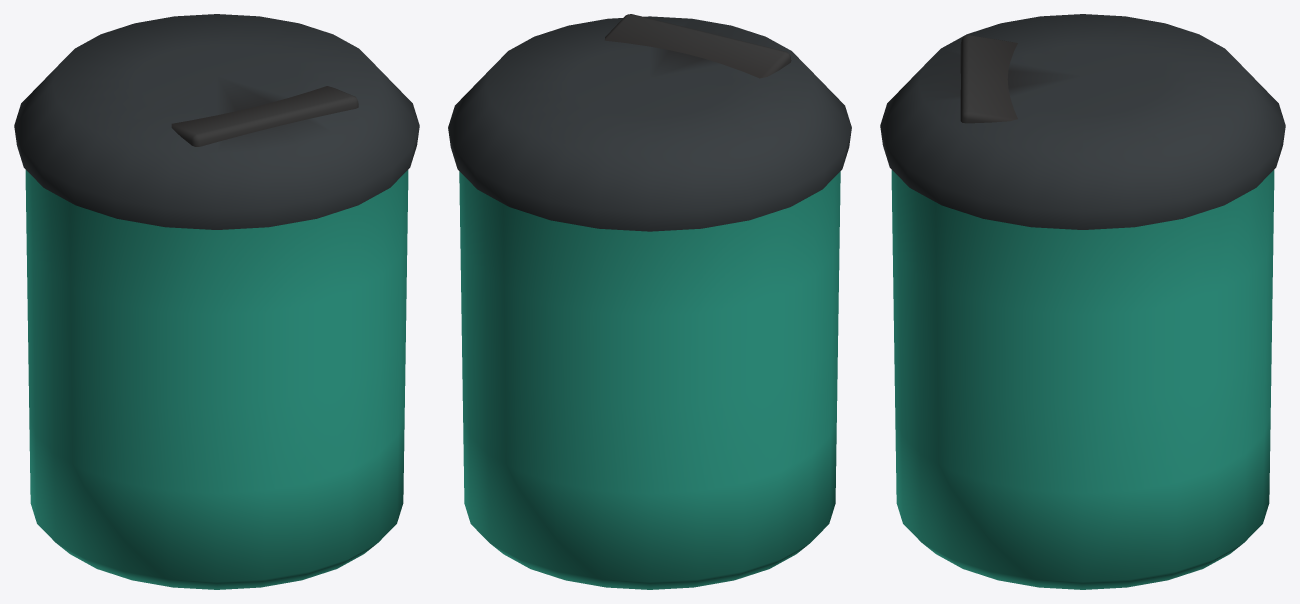
Rendered from fp-bin.gltf.
3 renders of one model, left to right at view 1: azimuth 30°, elevation 25°; view 2: azimuth 150°, elevation 25°; view 3: azimuth 270°, elevation 25°, orthographic.
Visible parts, largest first — view 1: model; view 2: model; view 3: model.
Part boxes in pixels (left/top/right/bottom): model: left=14, top=14, right=419, bottom=589; model: left=448, top=14, right=851, bottom=589; model: left=880, top=14, right=1285, bottom=589.
Size of the model in its own units: 0.148 by 0.1791 by 0.148.
